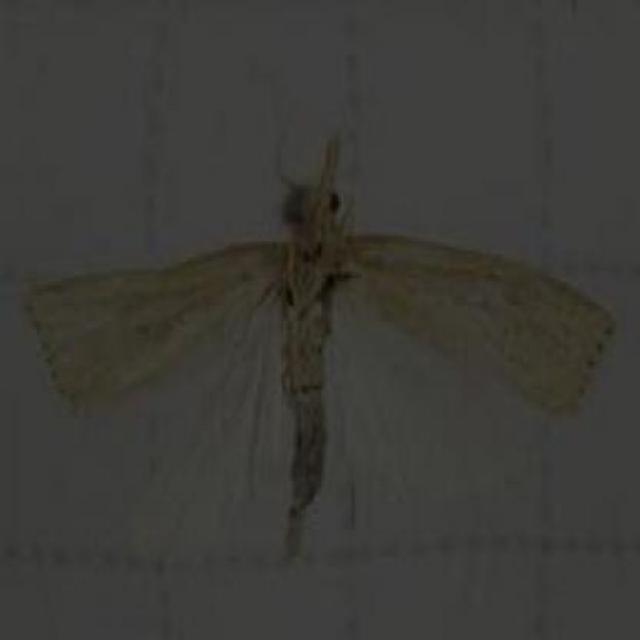stem-borer: (20, 131, 620, 543)
